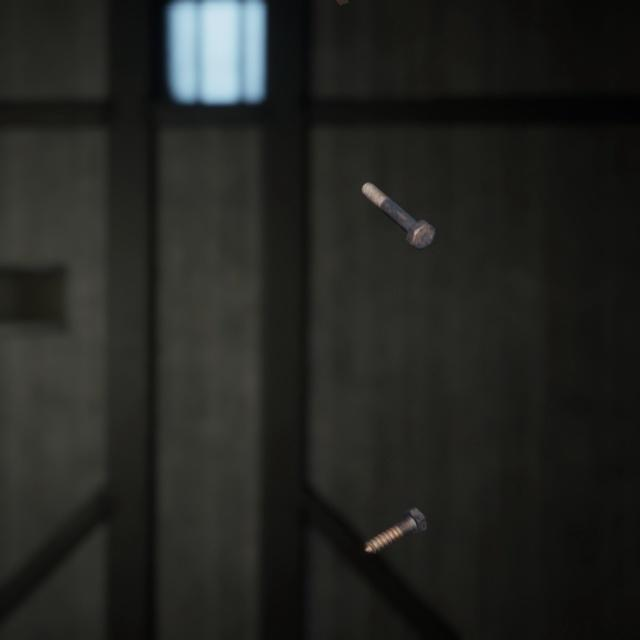bolt: (357, 163, 440, 239), (360, 481, 431, 536)
